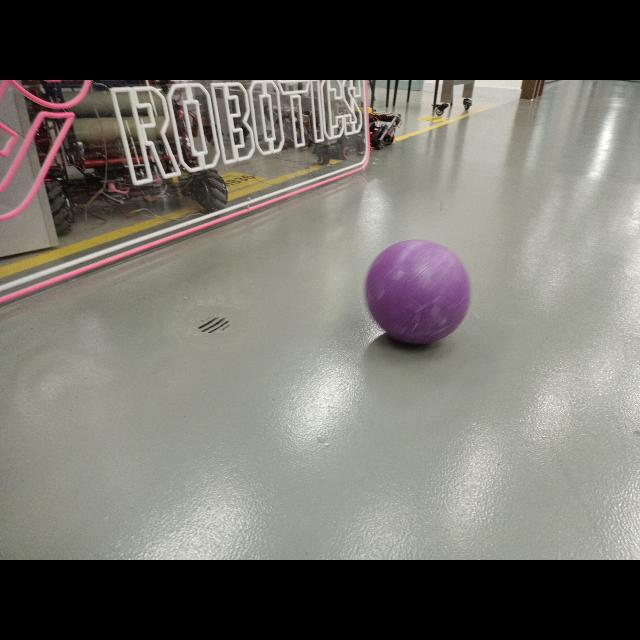P: (362, 237, 471, 345)
